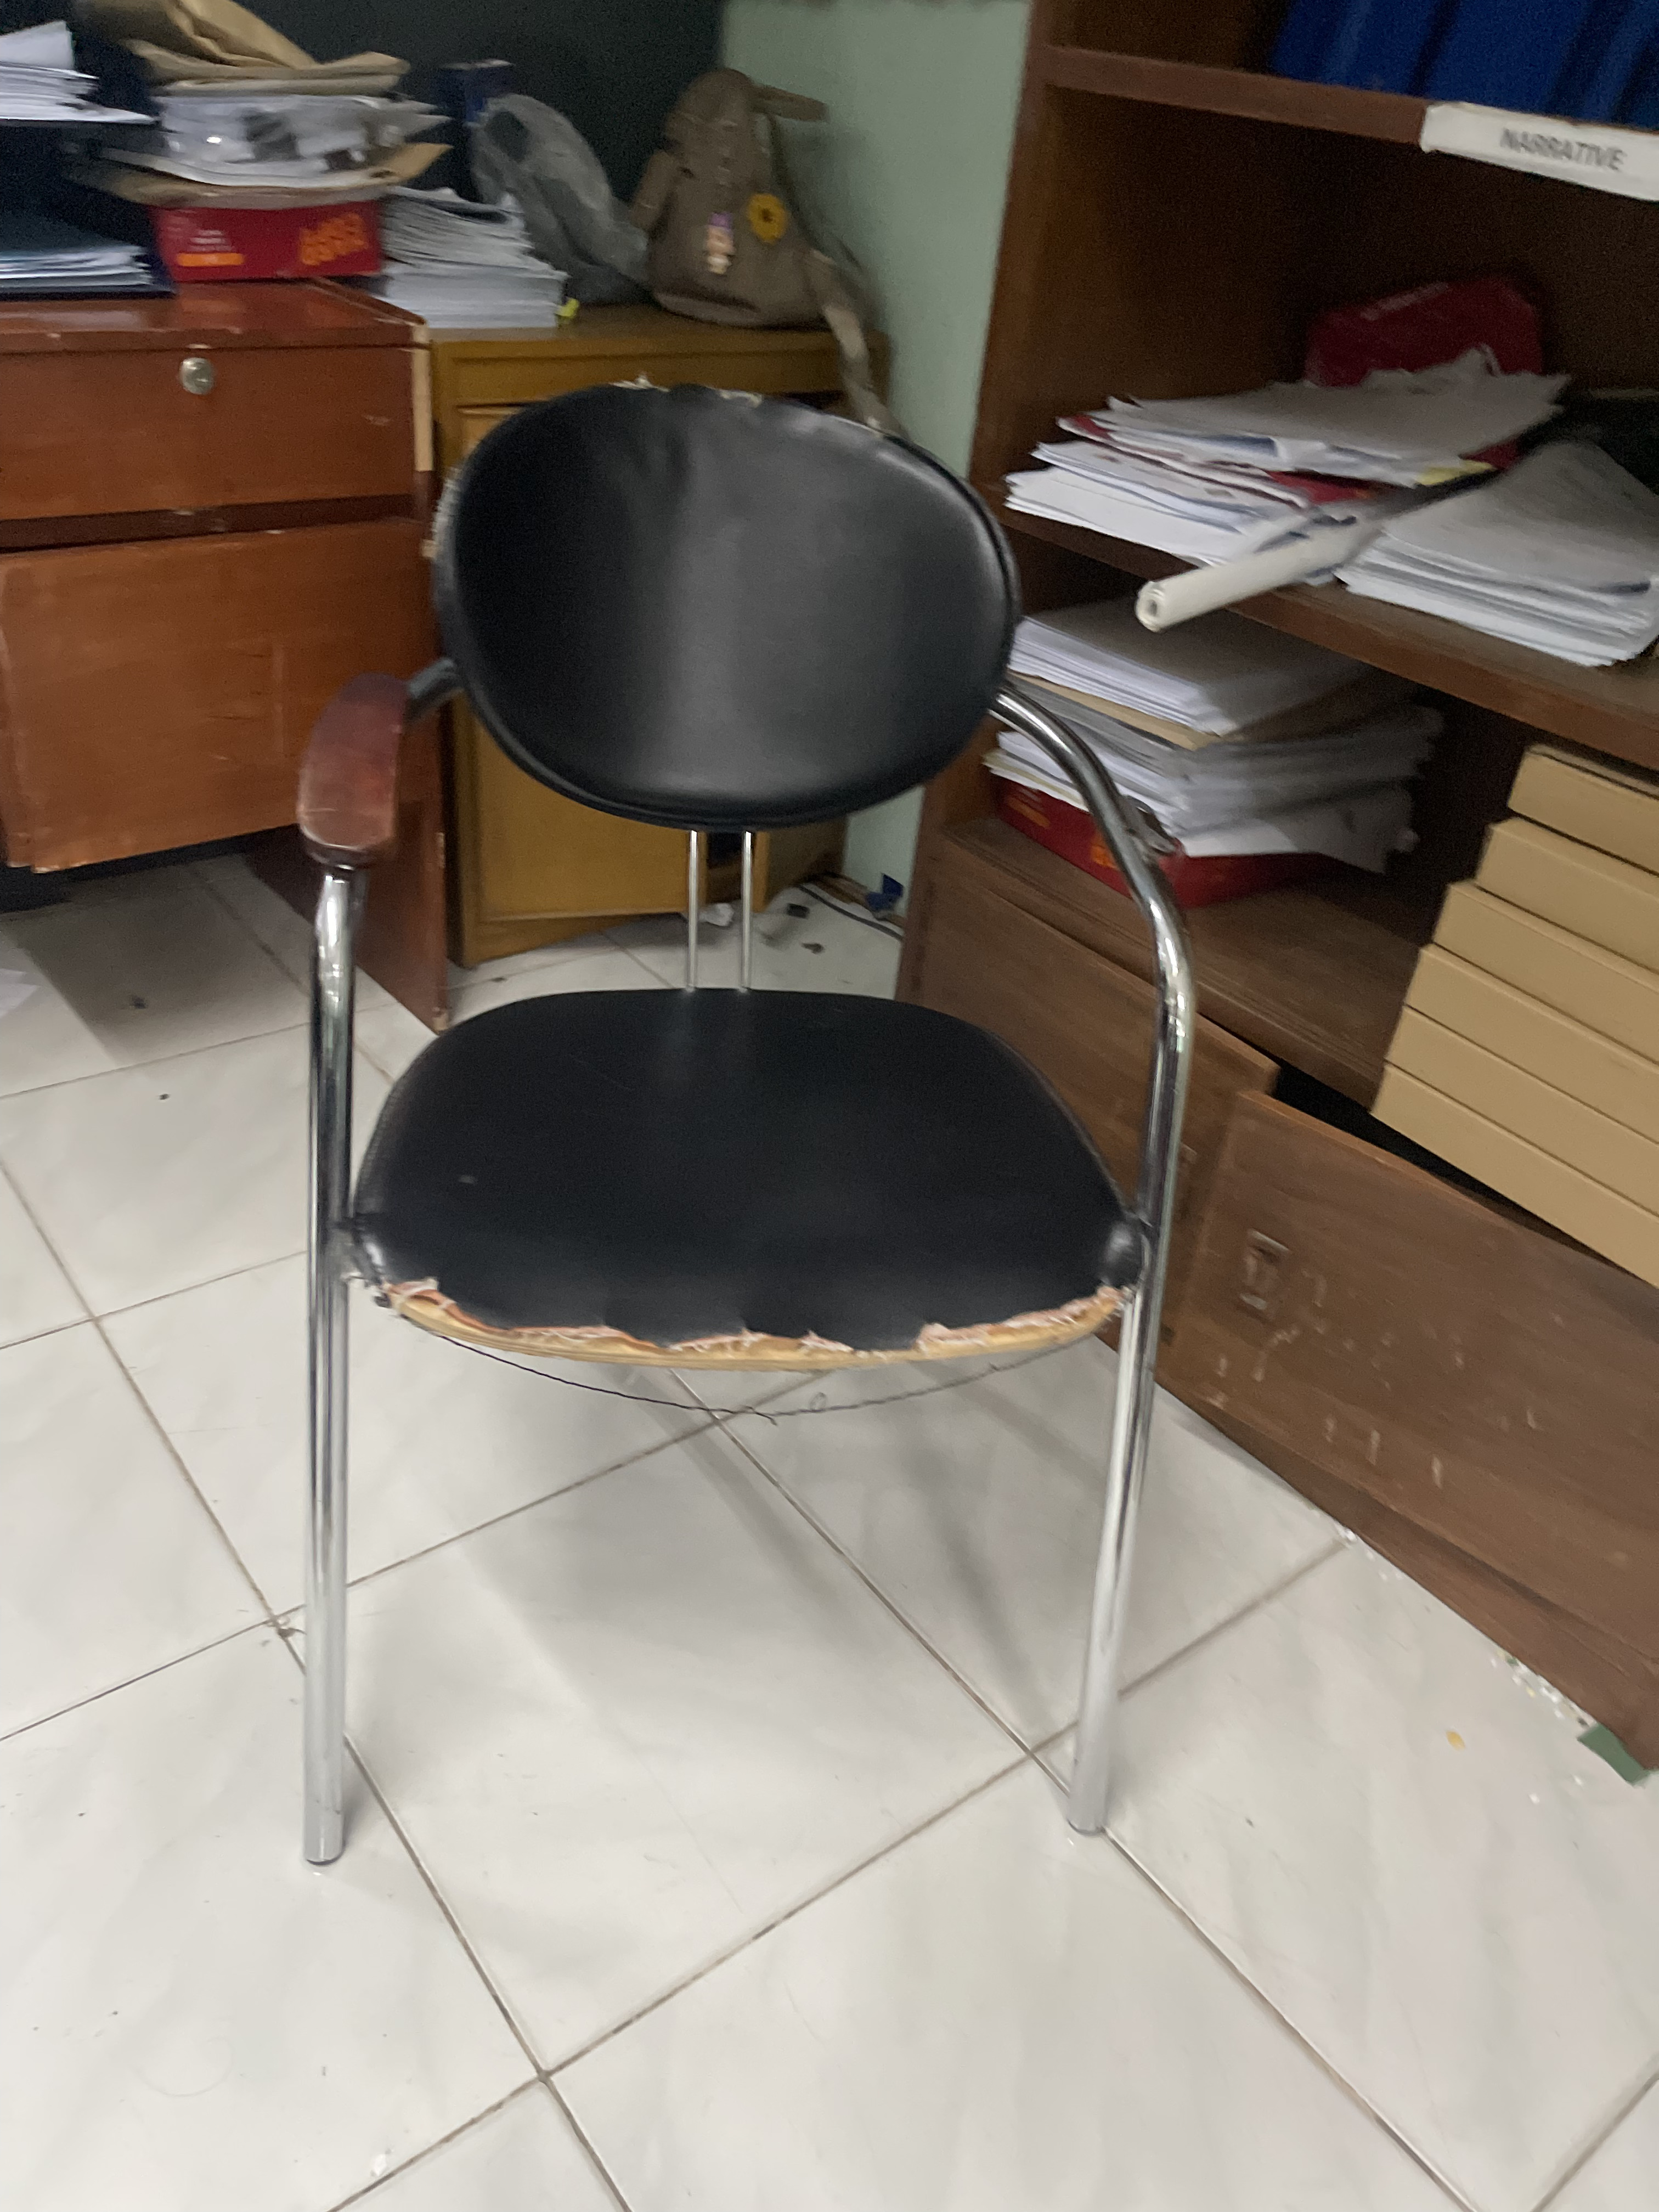chair1: (268, 381, 1192, 1874)
